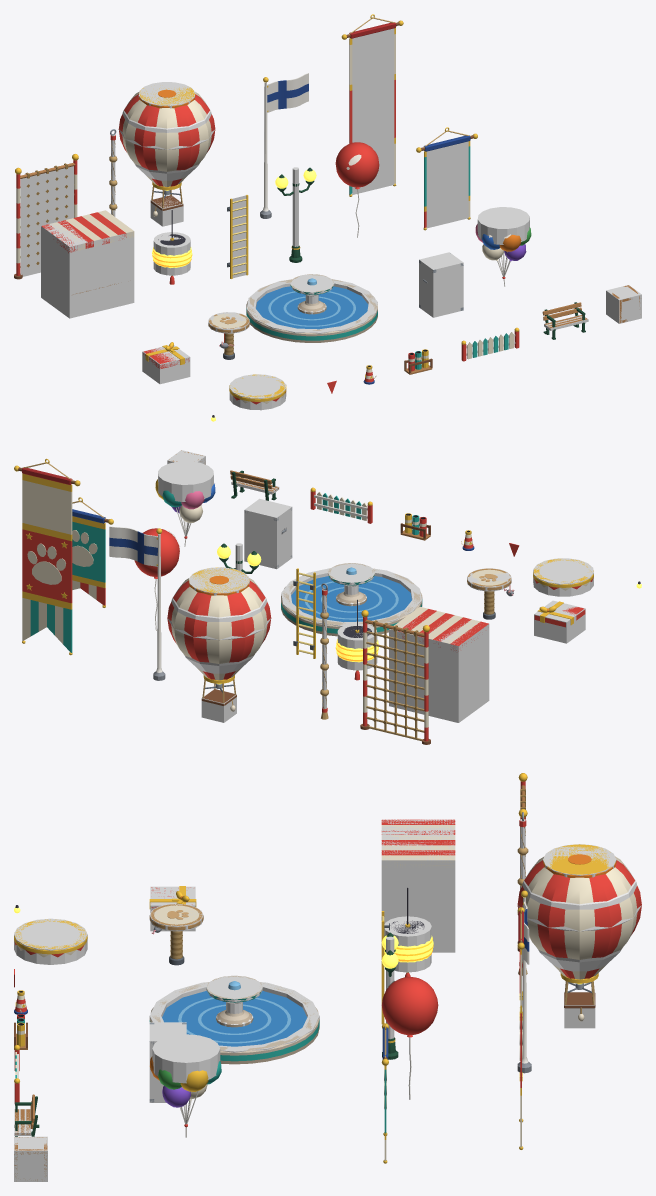
File: kit_festival.glb
3 views of the same model, one above another, from view 1: azimuth 30°, elevation 25°; view 2: azimuth 150°, elevation 25°; view 3: azimuth 270°, elevation 25° (orthographic). The views are drawn at different scales.
Visible parts, largest first — view 1: COL_kiosk, hot_air_balloon_mesh, CLIMB_banner, fountain_mesh, CLIMB_net, CLIMB_banner_short, COL_speaker_stack, kiosk_mesh, flag_pole_mesh, balloon_mesh, COL_fountain_rim, COL_balloon_bunch (+20 smaller); view 2: banner_mesh, hot_air_balloon_mesh, COL_kiosk, fountain_mesh, net_mesh, banner_short_mesh, COL_speaker_stack, flag_pole_mesh, kiosk_mesh, COL_balloon_bunch, COL_trampoline, COL_fountain_rim (+20 smaller); view 3: hot_air_balloon_mesh, fountain_mesh, COL_kiosk, kiosk_mesh, balloon_mesh, COL_balloon_bunch, COL_trampoline, COL_fountain_rim, COL_hot_air_balloon_envelope, balloon_bunch_mesh, cat_perch_mesh, COL_crate (+13 smaller).
Boxes of the visible parts, box(x1,y1,x2,y2) form: COL_kiosk: box(41, 221, 134, 318); hot_air_balloon_mesh: box(118, 87, 215, 216); CLIMB_banner: box(352, 28, 394, 194); fountain_mesh: box(246, 274, 377, 342); CLIMB_net: box(20, 166, 73, 276); CLIMB_banner_short: box(426, 141, 468, 228); COL_speaker_stack: box(419, 252, 463, 317); kiosk_mesh: box(42, 210, 134, 294); flag_pole_mesh: box(260, 73, 308, 218); balloon_mesh: box(335, 142, 379, 237); COL_fountain_rim: box(246, 279, 377, 333); COL_balloon_bunch: box(477, 207, 529, 244); banner_mesh: box(14, 458, 80, 655); hot_air_balloon_mesh: box(167, 567, 271, 711); COL_kiosk: box(389, 614, 489, 722); fountain_mesh: box(281, 563, 422, 636); net_mesh: box(360, 610, 430, 744); banner_short_mesh: box(72, 497, 113, 607); COL_speaker_stack: box(244, 498, 292, 569); flag_pole_mesh: box(109, 526, 165, 680); kiosk_mesh: box(389, 607, 488, 651); COL_balloon_bunch: box(158, 461, 213, 501); COL_trampoline: box(533, 558, 593, 596); COL_fountain_rim: box(281, 568, 421, 626); hot_air_balloon_mesh: box(517, 844, 641, 1021); fountain_mesh: box(149, 975, 319, 1064); COL_kiosk: box(381, 819, 455, 952); kiosk_mesh: box(381, 819, 455, 869); balloon_mesh: box(381, 977, 438, 1099); COL_balloon_bunch: box(152, 1034, 220, 1083); COL_trampoline: box(14, 918, 87, 964); COL_fountain_rim: box(149, 982, 319, 1052); COL_hot_air_balloon_envelope: box(518, 869, 641, 971); balloon_bunch_mesh: box(149, 1056, 221, 1137); cat_perch_mesh: box(149, 904, 203, 965); COL_crate: box(14, 1136, 47, 1181).
Bounding box in the file's own units: 22.56 × 8.91 × 22.2.
